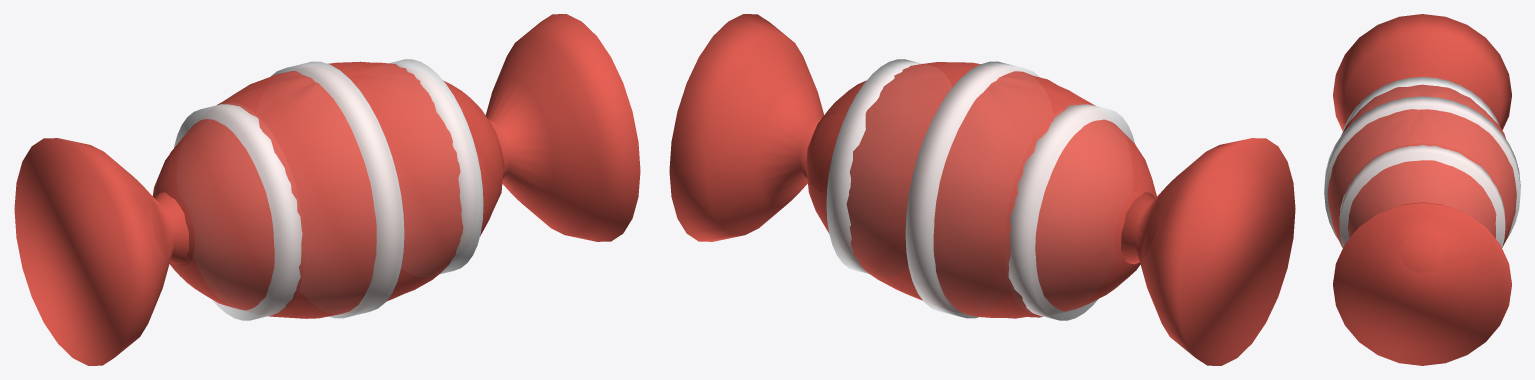
Rendered from items-candy.glb.
3 views of the same model, side by side, from view 1: azimuth 30°, elevation 25°; view 2: azimuth 150°, elevation 25°; view 3: azimuth 270°, elevation 25° (orthographic). The views are drawn at different scales.
Visible parts, largest first — view 1: Candy__Twists, Candy__Wrapper, Candy__Stripes; view 2: Candy__Twists, Candy__Wrapper, Candy__Stripes; view 3: Candy__Twists, Candy__Wrapper, Candy__Stripes.
Boxes of the visible parts, <box> form: Candy__Twists: <box>14,14,640,365</box>; Candy__Wrapper: <box>152,61,504,318</box>; Candy__Stripes: <box>174,59,483,320</box>; Candy__Twists: <box>669,14,1295,365</box>; Candy__Wrapper: <box>806,62,1156,318</box>; Candy__Stripes: <box>826,59,1134,320</box>; Candy__Twists: <box>1333,14,1511,365</box>; Candy__Wrapper: <box>1327,84,1516,247</box>; Candy__Stripes: <box>1324,77,1520,247</box>.
Bounding box in the file's own units: 8 × 3.5 × 3.5.
